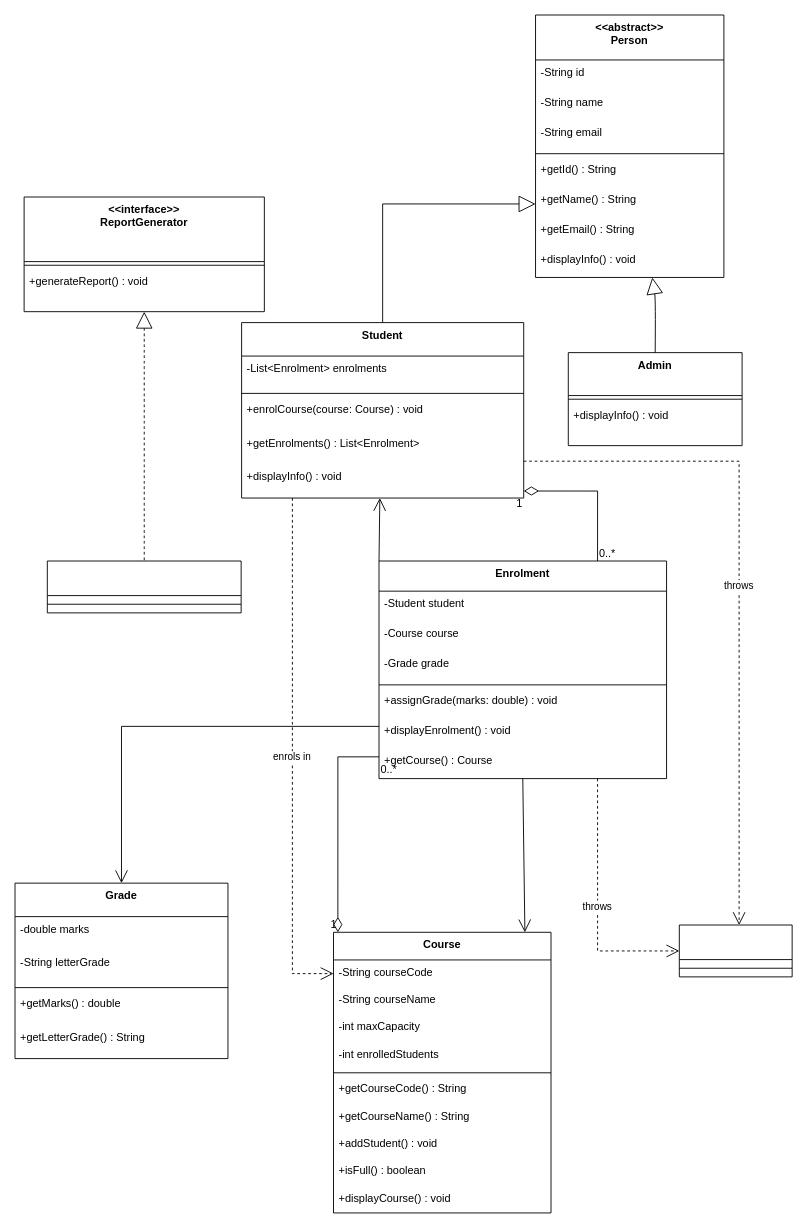
This 807x1228 diagram has some shape labels left out. Each missing label, with the centre of its shape:
"SESException" goes at point 735,950.
"StudentEnrolmentSystem" goes at point 143,586.
